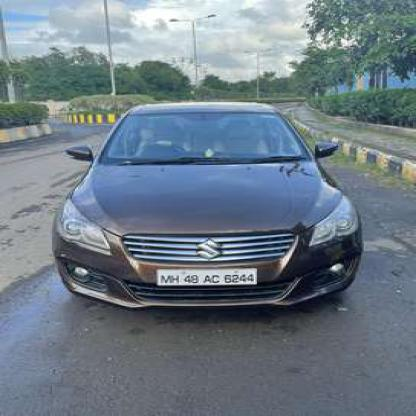license_plate: (156, 267, 255, 284)
